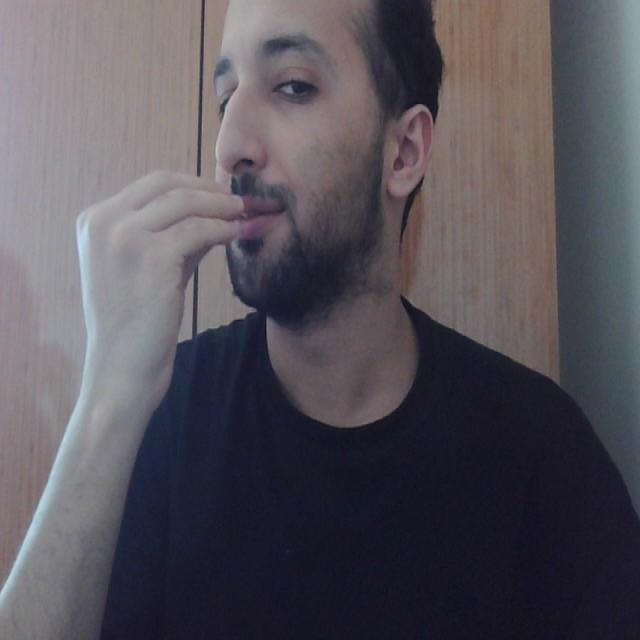Yemek: (70, 166, 256, 258)
